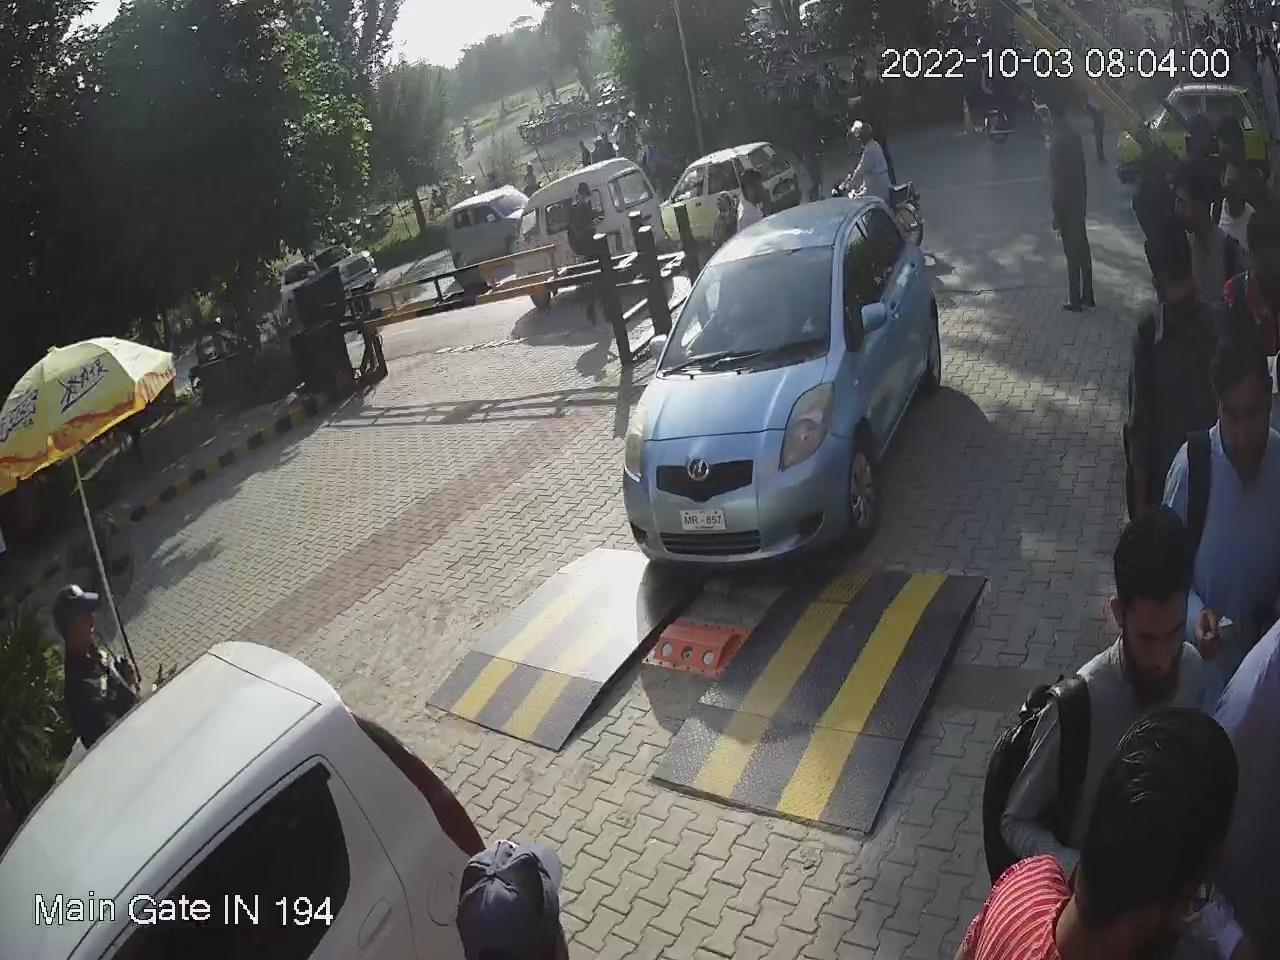windshield: (655, 233, 841, 380)
